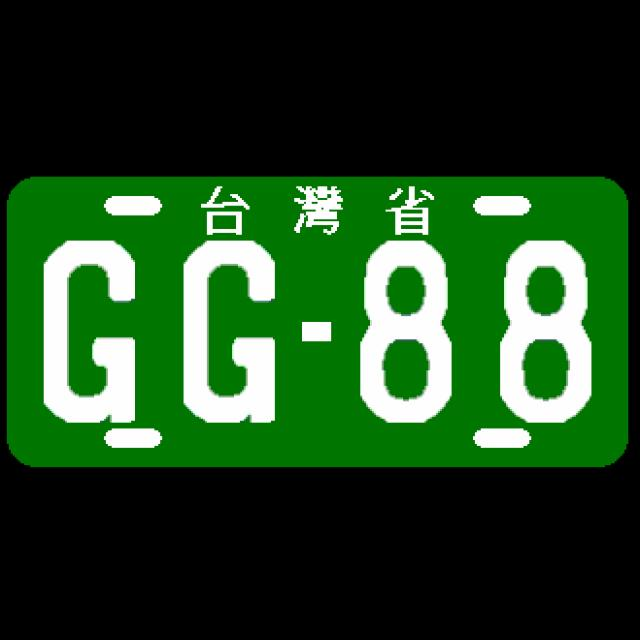plate: (4, 175, 632, 470)
